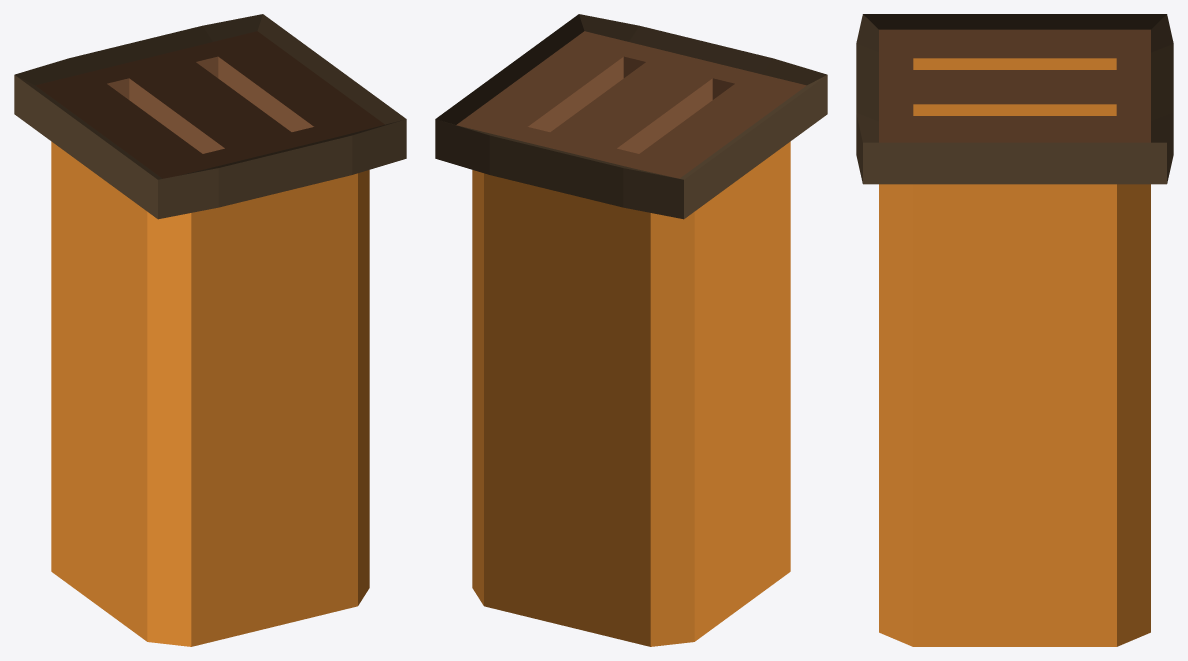
File: Mop Washer.fbx
3 renders of one model, left to right at view 1: azimuth 30°, elevation 25°; view 2: azimuth 150°, elevation 25°; view 3: azimuth 270°, elevation 25°, orthographic. The views are drawn at different scales.
Parts seen in each view (by area): view 1: Mop Washer; view 2: Mop Washer; view 3: Mop Washer.
Part boxes in pixels (<box>): Mop Washer: <box>14,14,406,646</box>; Mop Washer: <box>435,14,827,646</box>; Mop Washer: <box>856,14,1173,646</box>.
Size of the model in its own units: 0.4183 by 0.7432 by 0.4007.
